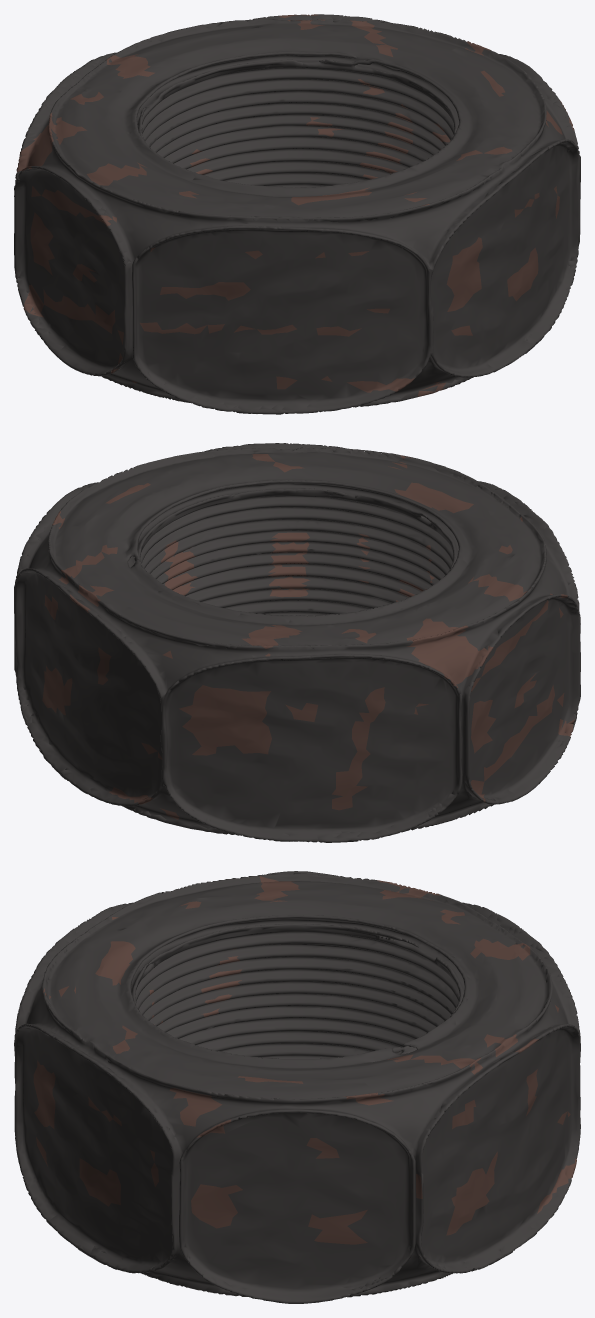
Rendered from tuerca_pintado.fbx.
The picture shows the model from 3 angles, top to bottom: view 1: azimuth 30°, elevation 25°; view 2: azimuth 150°, elevation 25°; view 3: azimuth 270°, elevation 25°; orthographic projection. The views are drawn at different scales.
Parts seen in each view (by area): view 1: tmpko23uxmv.ply; view 2: tmpko23uxmv.ply; view 3: tmpko23uxmv.ply.
Boxes of the visible parts, x1,y1,x2,y2 form: tmpko23uxmv.ply: [14, 14, 580, 414]; tmpko23uxmv.ply: [14, 443, 580, 842]; tmpko23uxmv.ply: [14, 871, 580, 1303].
Size of the model in its own units: 199 by 78.51 by 199.
